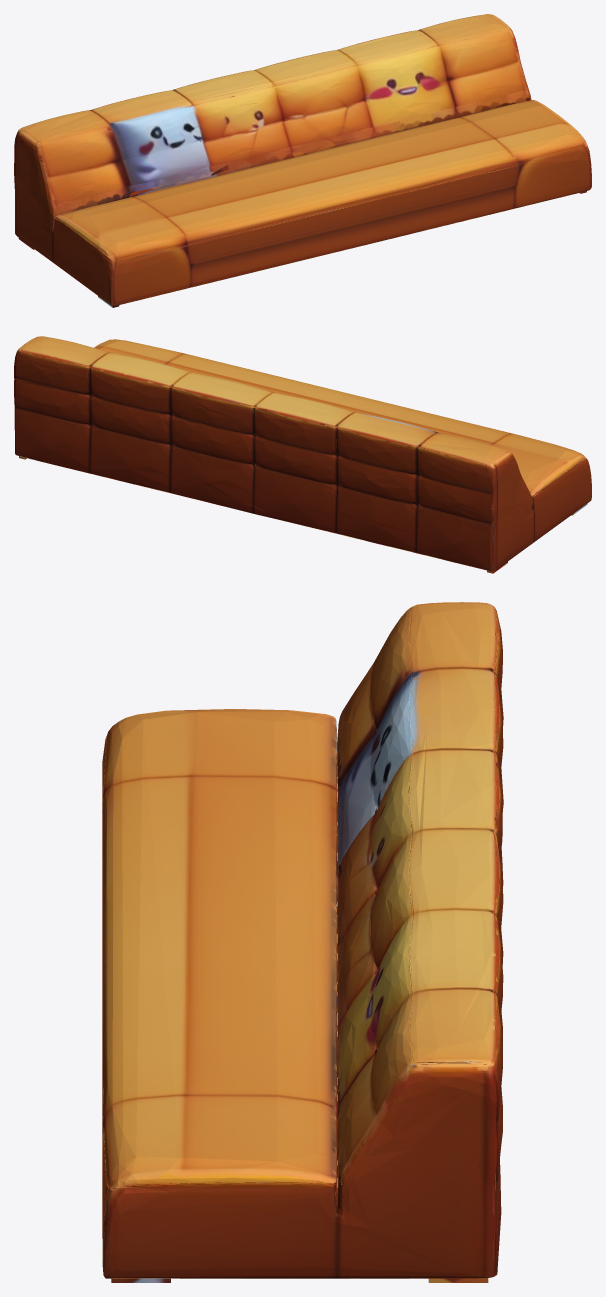
File: edited_mesh.glb
The picture shows the model from 3 angles, top to bottom: view 1: azimuth 30°, elevation 25°; view 2: azimuth 150°, elevation 25°; view 3: azimuth 270°, elevation 25°; orthographic projection. The views are drawn at different scales.
Visible parts, largest first — view 1: solid_001_wire; view 2: solid_001_wire; view 3: solid_001_wire.
Part boxes in pixels (bbox=[...]): solid_001_wire: bbox=[14, 14, 591, 307]; solid_001_wire: bbox=[14, 336, 591, 573]; solid_001_wire: bbox=[102, 602, 503, 1282].
Size of the model in its own units: 2 by 0.4446 by 0.7213.
1 material, 1 textured.
